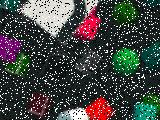Left: (21, 0, 100, 45)
